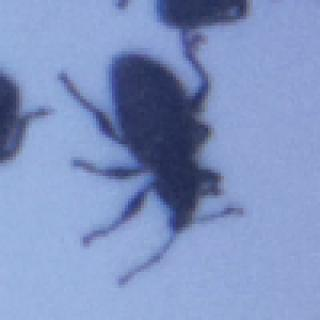bvw: (58, 28, 242, 286)
